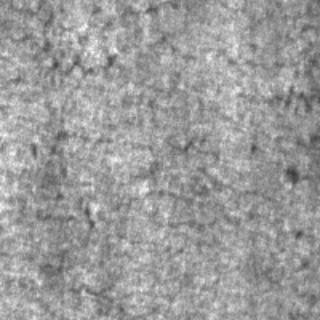crazing: (28, 127, 252, 229), (1, 0, 188, 70)
